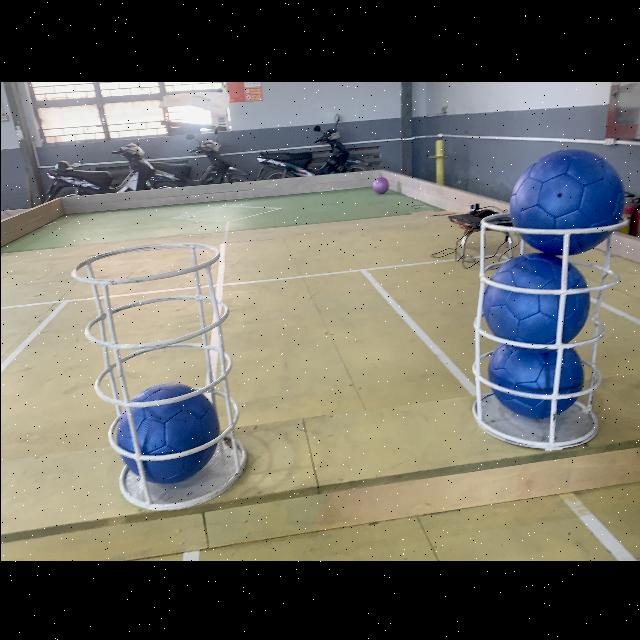B: (510, 148, 622, 252), (115, 381, 218, 484), (482, 250, 590, 342), (489, 340, 583, 416)
